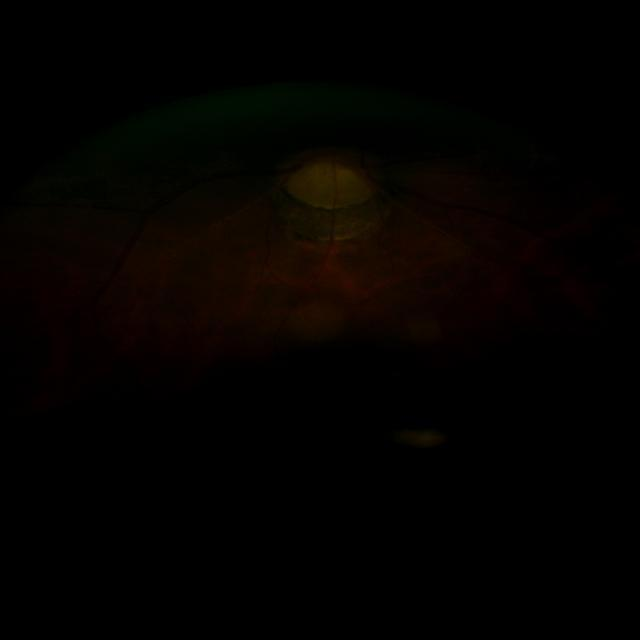cup: (287, 155, 373, 204)
disk: (280, 144, 380, 208)
